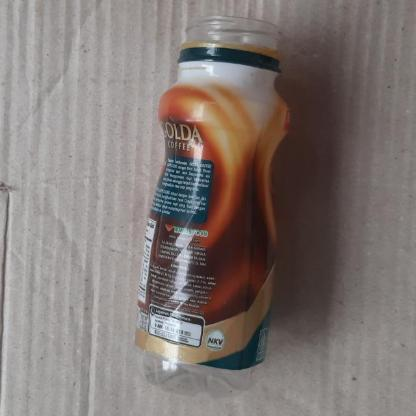Plastic Bottle: (131, 14, 293, 396)
